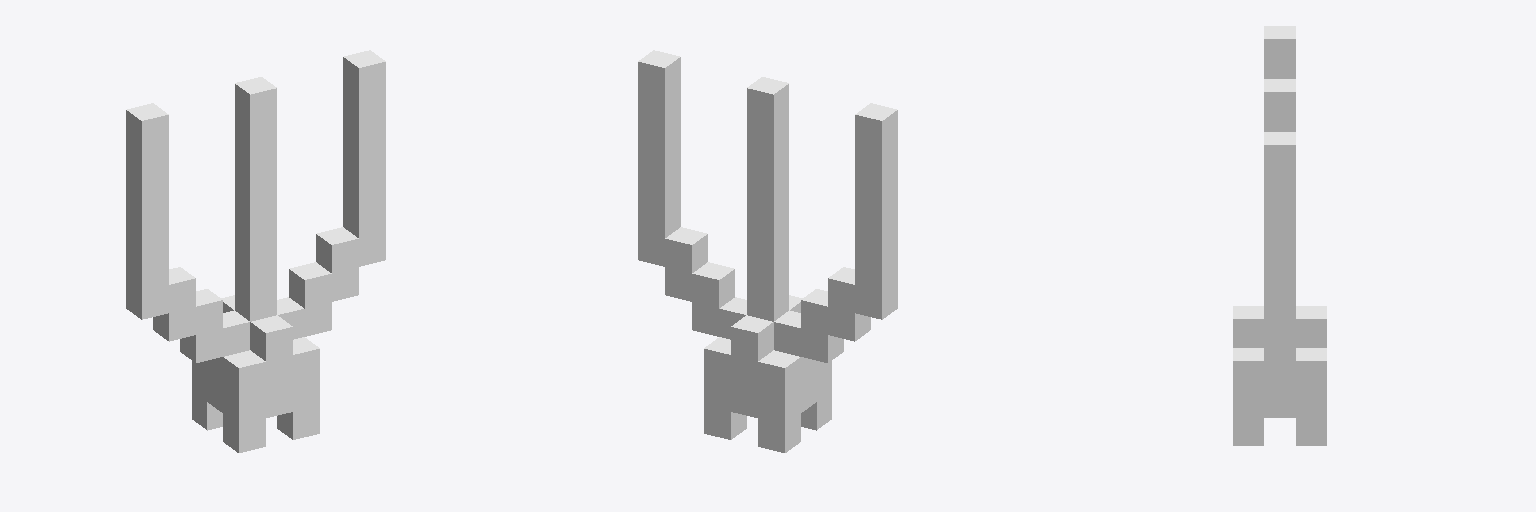
Rendered from PitchforkHead01.obj.
The picture shows the model from 3 angles: view 1: azimuth 30°, elevation 25°; view 2: azimuth 150°, elevation 25°; view 3: azimuth 270°, elevation 25°; orthographic projection.
Visible parts, largest first — view 1: object 1; view 2: object 1; view 3: object 1.
Boxes of the visible parts, box(x1,y1,x2,y2) form: object 1: box(126, 50, 385, 452); object 1: box(638, 50, 897, 452); object 1: box(1233, 26, 1326, 445).
Size of the model in its own units: 0.9 by 1.2 by 0.3.